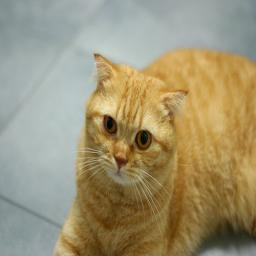catnose: (112, 152, 130, 174)
